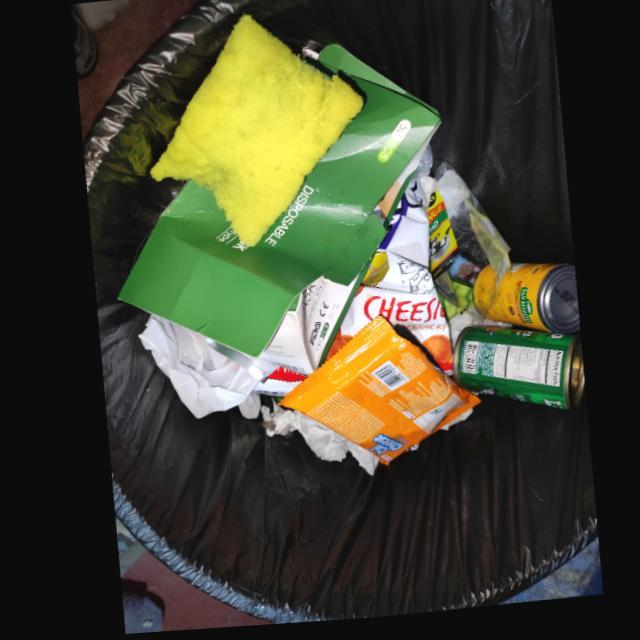metal: (448, 331, 580, 418), (469, 270, 577, 342)
paper: (113, 48, 440, 381), (134, 316, 261, 421)
wrapper: (274, 320, 477, 470), (314, 186, 448, 377), (250, 370, 303, 400)
